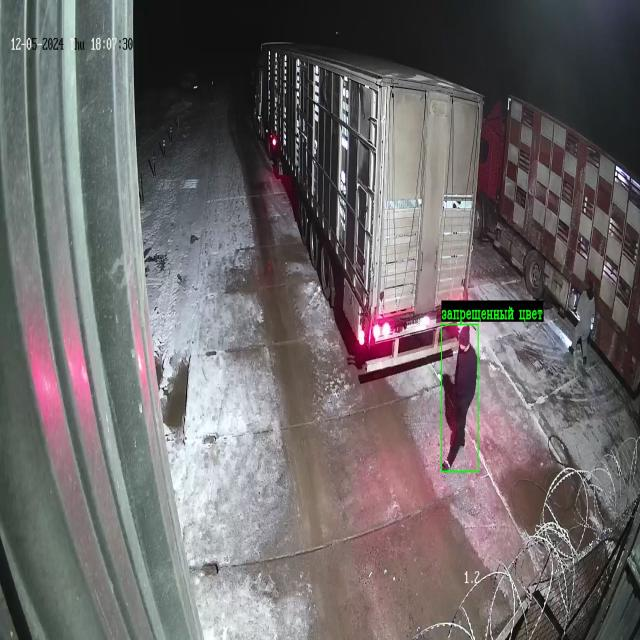Person: (442, 326, 477, 470)
